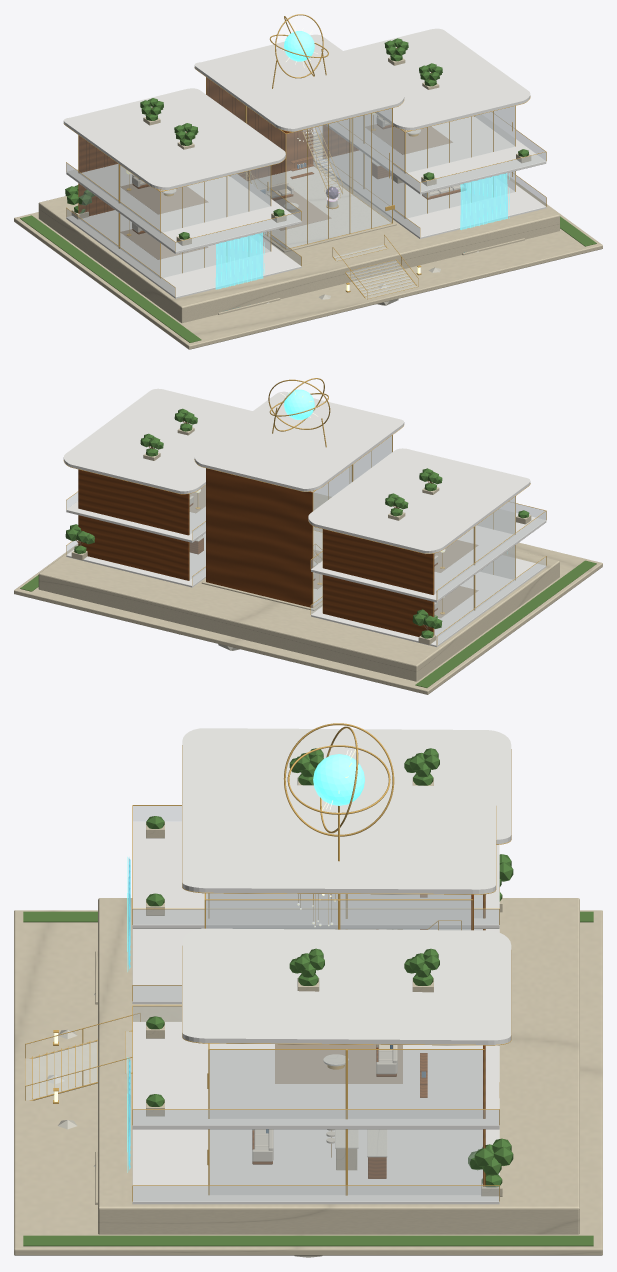
The model's file is House6.glb.
The picture shows the model from 3 angles, top to bottom: view 1: azimuth 30°, elevation 25°; view 2: azimuth 150°, elevation 25°; view 3: azimuth 270°, elevation 25°; orthographic projection. The views are drawn at different scales.
Visible parts, largest first — view 1: House6, Base; view 2: House6, Base; view 3: House6, Base.
Part boxes in pixels (x1,y1,x2,y2): House6: [20, 14, 596, 342]; Base: [14, 176, 602, 349]; House6: [20, 378, 596, 687]; Base: [14, 493, 602, 694]; House6: [23, 723, 593, 1257]; Base: [14, 910, 602, 1255].
Size of the model in its own units: 105 by 54.76 by 77.
19 materials, 3 textured.
